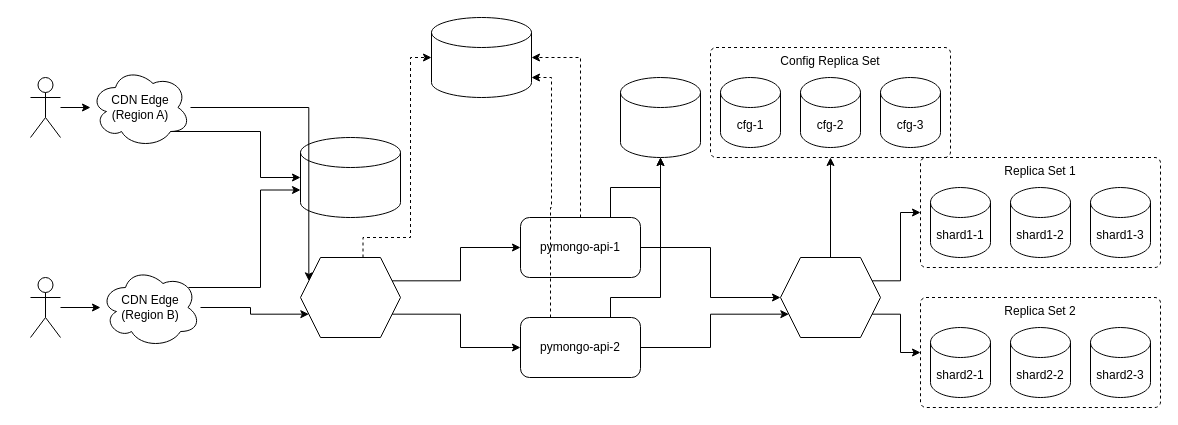
Some shapes in this 1178 by 425 pixel diagram are drawn without their labels. The centre of each missing label's shape, as x and y in pixels:
"API Gateway" belongs at pixel 350 297.
"Consul (Service Discovery)" belongs at pixel 481 57.
"mongos (Router)" belongs at pixel 830 297.
"Redis (Cache)" belongs at pixel 660 117.
"Static Storage (Origin)" belongs at pixel 350 177.
"Users (Region A)" belongs at pixel 45 107.
"Users (Region B)" belongs at pixel 45 307.
